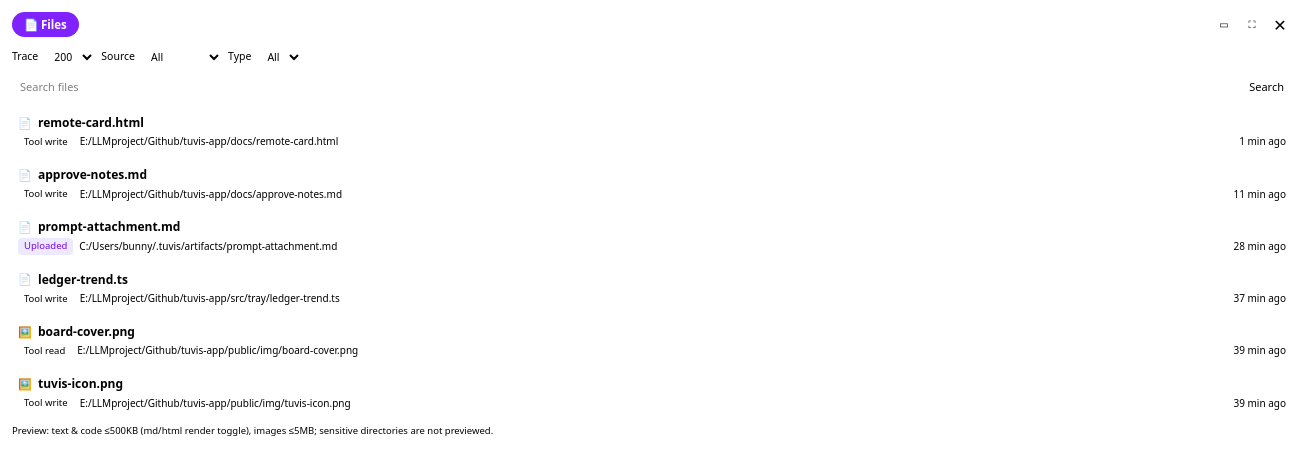
FilePreview /en 直挂零 Han：三帧交互驱动（remote.files 开屏态在整页门禁的盲区） › md 详情帧：渲染视图（ReactMarkdown）零 Han
Click the button that starts with "approve-notes.md" at (92, 174), box [12, 160, 1292, 208]
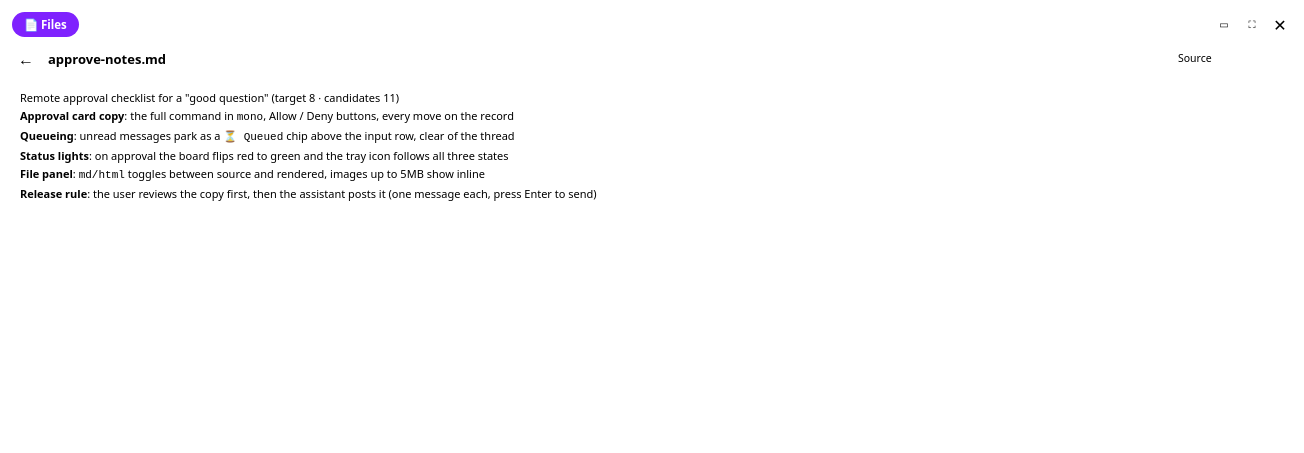
Check: the text "Remote approval checklist for a \"good question\" (target 8 · candidates 11)" is shown, box [20, 90, 399, 105]
